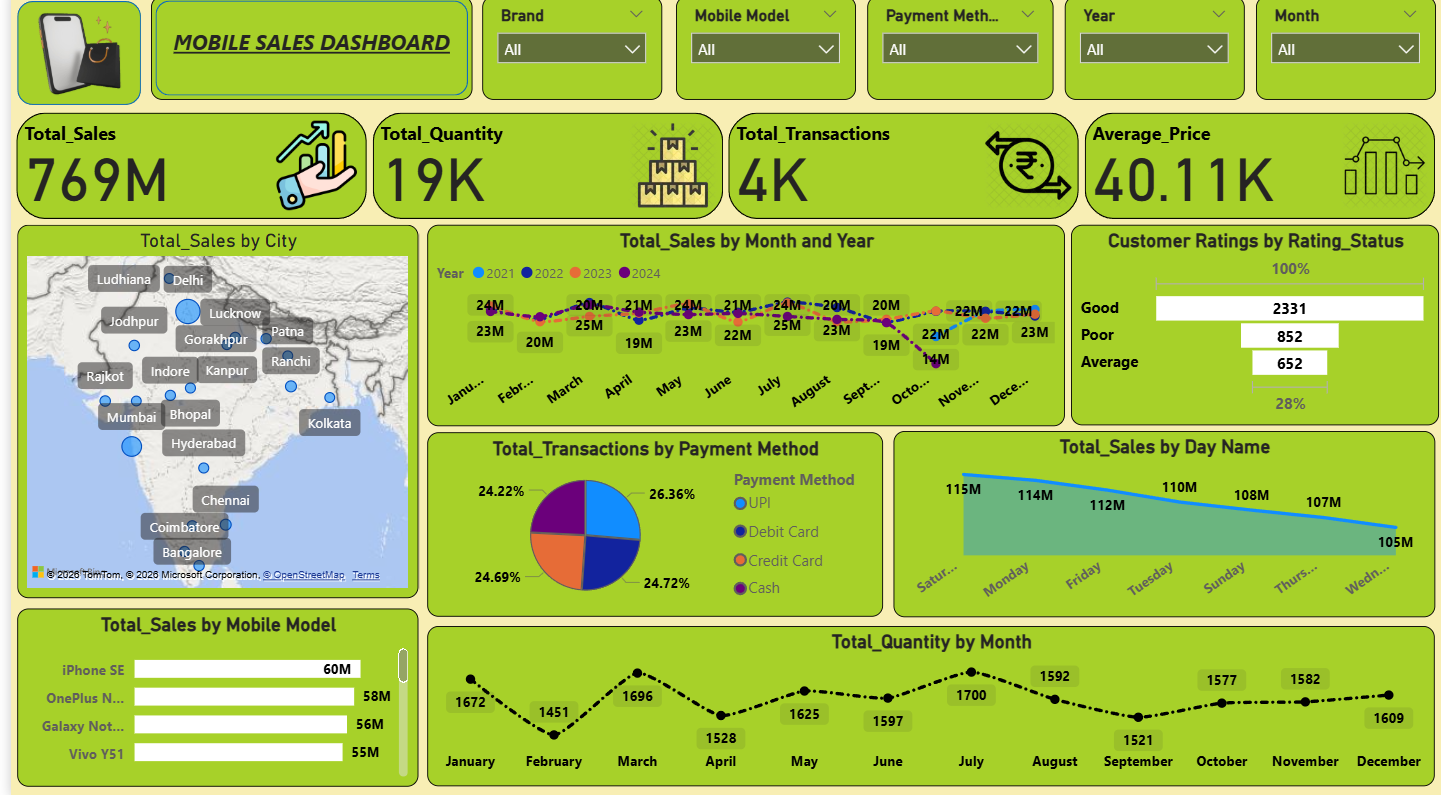

This screenshot's page, from the dashboard's own definition file:
{"tool":"powerbi","page":{"name":"Dashboard","canvas":[1280,720],"ordinal":0},"visuals":[{"type":"shape","box":[5.9,9.4,110.6,93],"z":0},{"type":"image","box":[9.3,0,103.5,103.5],"z":1000},{"type":"cardVisual","fields":{"Data":["Mobile_Sales_Data.Total_Sales","Mobile_Sales_Data.Total_Quantity","Mobile_Sales_Data.Total_Transactions","Mobile_Sales_Data.Average_Price"]},"box":[0,103.5,1280.2,105.8],"z":2000},{"type":"slicer","fields":{"Values":["Mobile_Sales_Data.Mobile Model"]},"box":[594.2,4.7,160.5,93],"z":3000},{"type":"slicer","fields":{"Values":["Mobile_Sales_Data.Payment Method"]},"box":[765.1,4.7,166.3,93],"z":4000},{"type":"slicer","fields":{"Values":["Mobile_Sales_Data.Brand"]},"box":[420.9,4.7,160.5,93],"z":5000},{"type":"shape","box":[125.6,4.7,287.2,93],"z":6000},{"type":"textbox","box":[125.6,27.9,287.2,53.5],"z":7000},{"type":"map","fields":{"Category":["Mobile_Sales_Data.City"],"Size":["Mobile_Sales_Data.Total_Sales"]},"box":[5.8,209.3,358.1,333.7],"z":8000},{"type":"lineChart","fields":{"Category":["Custom_Calendar.Date.Variation.Date Hierarchy.Month"],"Y":["Mobile_Sales_Data.Total_Quantity"]},"box":[372.1,567.4,900,143],"z":9000},{"type":"funnel","title":"Customer Ratings by Rating_Status","fields":{"Y":["CountNonNull(Mobile_Sales_Data.Customer Ratings)"],"Category":["Mobile_Sales_Data.Rating_Status"]},"box":[946.5,209.3,329.1,179.1],"z":10000},{"type":"pieChart","fields":{"Category":["Mobile_Sales_Data.Payment Method"],"Y":["Mobile_Sales_Data.Total_Transactions"]},"box":[372.1,394.2,407,165.1],"z":11000},{"type":"clusteredBarChart","fields":{"Y":["Mobile_Sales_Data.Total_Sales"],"Category":["Mobile_Sales_Data.Mobile Model"]},"box":[5.8,551.2,358.1,159.3],"z":12000},{"type":"areaChart","fields":{"Y":["Mobile_Sales_Data.Total_Sales"],"Category":["Custom_Calendar.Day Name"]},"box":[788.4,393,483.7,166.3],"z":13000},{"type":"slicer","fields":{"Values":["Custom_Calendar.Date.Variation.Date Hierarchy.Year"]},"box":[941.9,4.7,160.5,93],"z":14000},{"type":"slicer","fields":{"Values":["Custom_Calendar.Date.Variation.Date Hierarchy.Month"]},"box":[1111.6,4.7,160.5,93],"z":15000},{"type":"lineChart","fields":{"Category":["Custom_Calendar.Date.Variation.Date Hierarchy.Month"],"Y":["Mobile_Sales_Data.Total_Sales"],"Series":["Custom_Calendar.Date.Variation.Date Hierarchy.Year"]},"box":[372.1,209.3,569.8,180.2],"z":16000}]}

Visuals, with their boxes in screenshot pixels (x1, y1, x2, y2), scaled from the page's 1280x720 canvas onto the 1441x795 screenshot:
shape: x1=7 y1=10 x2=131 y2=113
image: x1=10 y1=0 x2=127 y2=114
cardVisual - Mobile_Sales_Data.Total_Sales x Mobile_Sales_Data.Total_Quantity: x1=0 y1=114 x2=1440 y2=231
slicer - Mobile_Sales_Data.Mobile Model: x1=669 y1=5 x2=850 y2=108
slicer - Mobile_Sales_Data.Payment Method: x1=861 y1=5 x2=1049 y2=108
slicer - Mobile_Sales_Data.Brand: x1=474 y1=5 x2=655 y2=108
shape: x1=141 y1=5 x2=465 y2=108
textbox: x1=141 y1=31 x2=465 y2=90
map - Mobile_Sales_Data.City x Mobile_Sales_Data.Total_Sales: x1=7 y1=231 x2=410 y2=600
lineChart - Custom_Calendar.Date.Variation.Date Hierarchy.Month x Mobile_Sales_Data.Total_Quantity: x1=419 y1=627 x2=1432 y2=784
"Customer Ratings by Rating_Status" funnel: x1=1066 y1=231 x2=1436 y2=429
pieChart - Mobile_Sales_Data.Payment Method x Mobile_Sales_Data.Total_Transactions: x1=419 y1=435 x2=877 y2=618
clusteredBarChart - Mobile_Sales_Data.Total_Sales x Mobile_Sales_Data.Mobile Model: x1=7 y1=609 x2=410 y2=785
areaChart - Mobile_Sales_Data.Total_Sales x Custom_Calendar.Day Name: x1=888 y1=434 x2=1432 y2=618
slicer - Custom_Calendar.Date.Variation.Date Hierarchy.Year: x1=1060 y1=5 x2=1241 y2=108
slicer - Custom_Calendar.Date.Variation.Date Hierarchy.Month: x1=1251 y1=5 x2=1432 y2=108
lineChart - Custom_Calendar.Date.Variation.Date Hierarchy.Month x Mobile_Sales_Data.Total_Sales: x1=419 y1=231 x2=1060 y2=430
